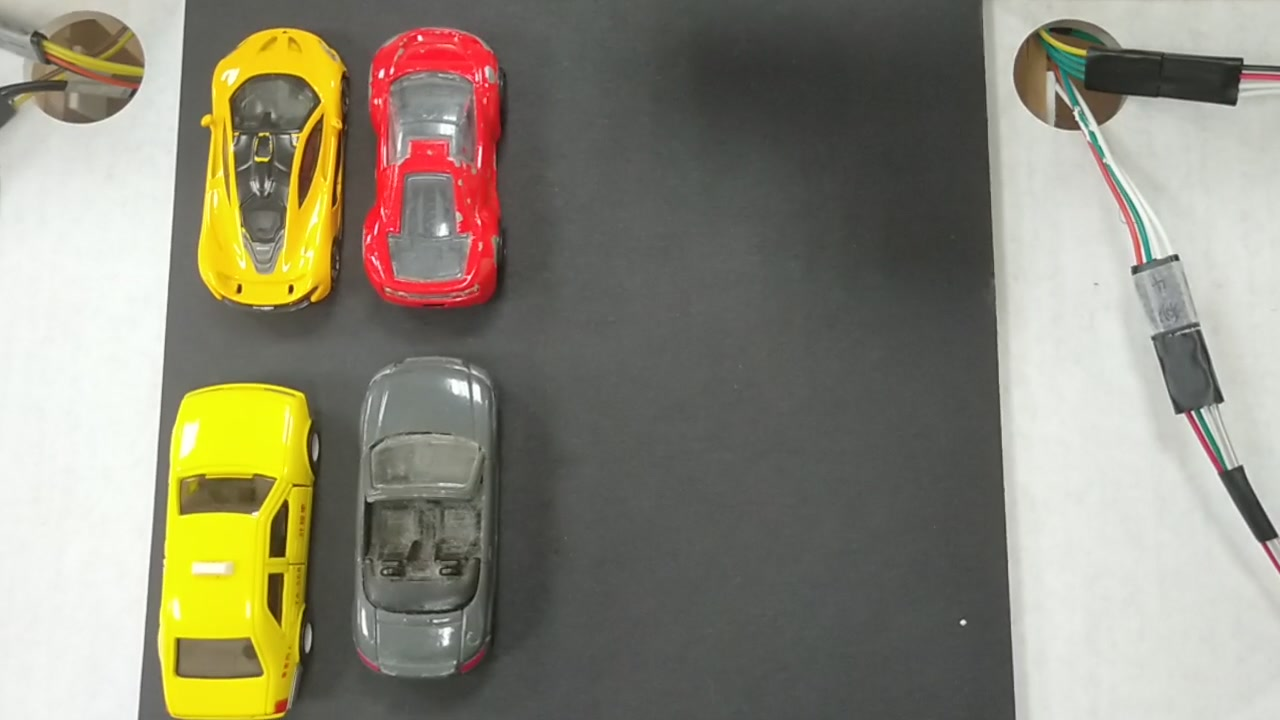car: (157, 376, 314, 720), (351, 355, 496, 679), (195, 32, 353, 309), (364, 32, 501, 302)
